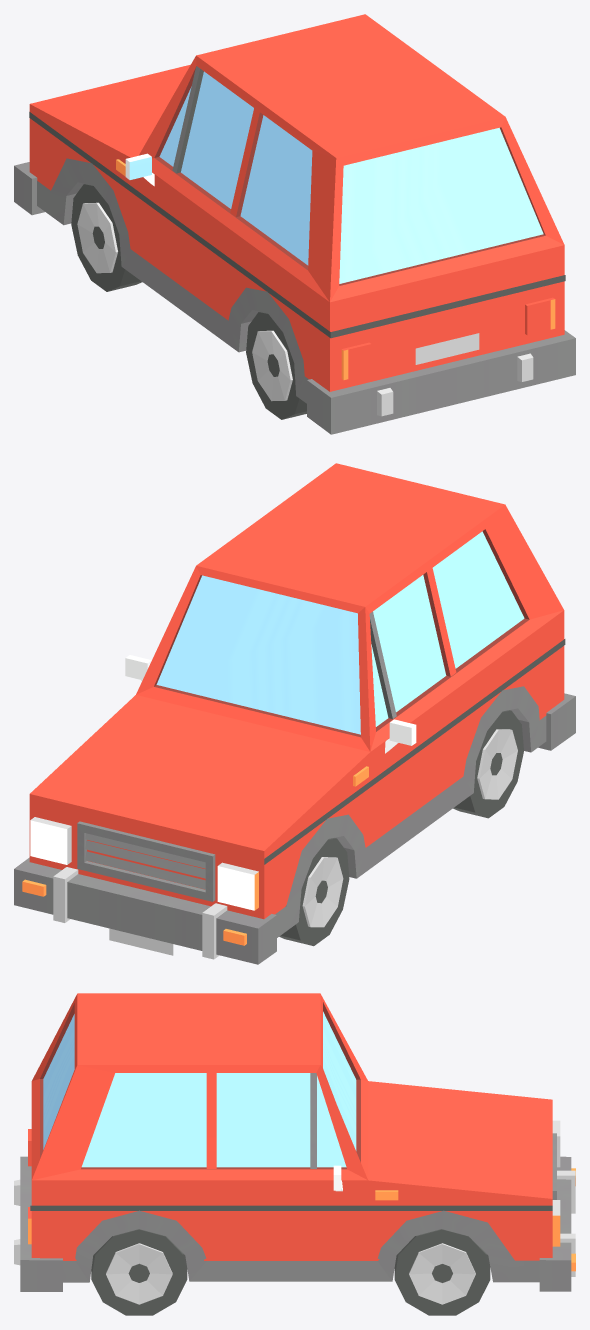
Rendered from transport_old.003.glb.
The picture shows the model from 3 angles, top to bottom: view 1: azimuth 30°, elevation 25°; view 2: azimuth 150°, elevation 25°; view 3: azimuth 270°, elevation 25°; orthographic projection. The views are drawn at different scales.
Visible parts, largest first — view 1: transport_old.003(Clone); view 2: transport_old.003(Clone); view 3: transport_old.003(Clone).
Part boxes in pixels (x1,y1,x2,y2): transport_old.003(Clone): (14,14,575,434); transport_old.003(Clone): (14,463,575,964); transport_old.003(Clone): (14,993,575,1315).
Size of the model in its own units: 1.48 by 1.36 by 2.89.
Materials: 1 (1 with a texture image).
